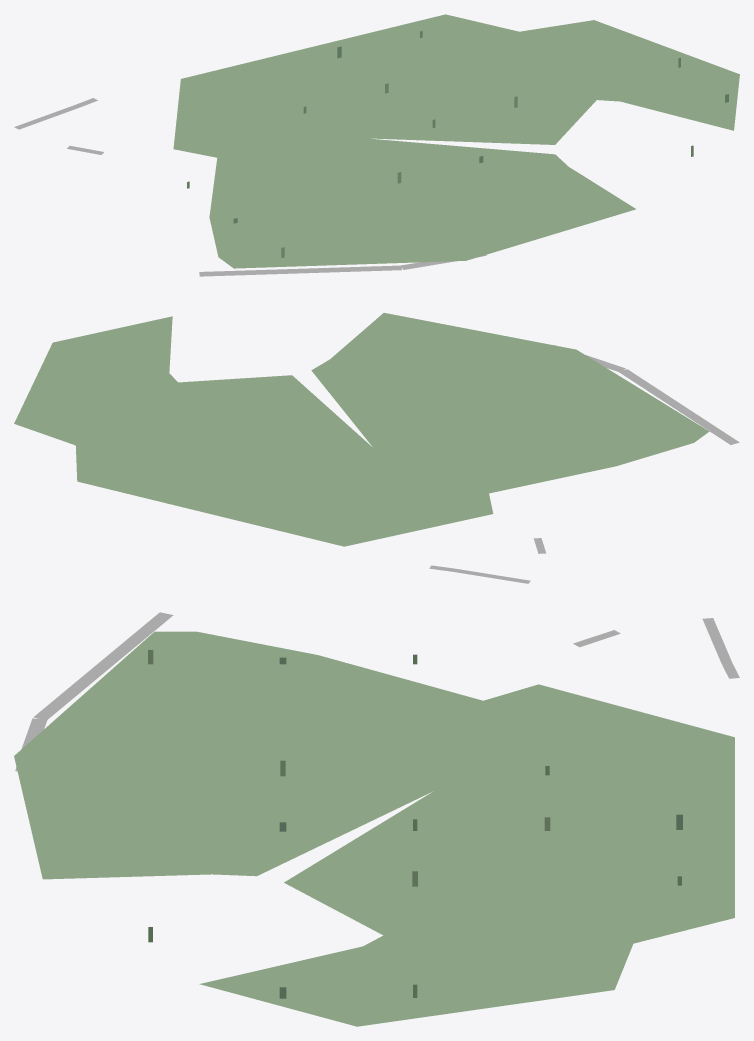
The picture shows the model from 3 angles, top to bottom: view 1: azimuth 30°, elevation 25°; view 2: azimuth 150°, elevation 25°; view 3: azimuth 270°, elevation 25°; orthographic projection. The views are drawn at different scales.
Size of the model in its own units: 447 by 9.98 by 329.
